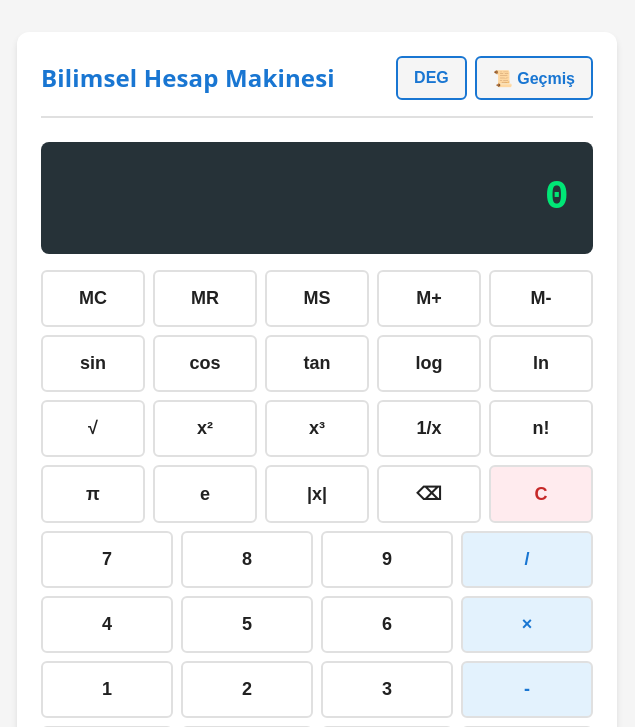
it: ScientificCalculator › Scientific Functions › should calculate sine in degree mode
Click the button labelled "9": (387, 560) [321,531,453,588]
(page scrolled)
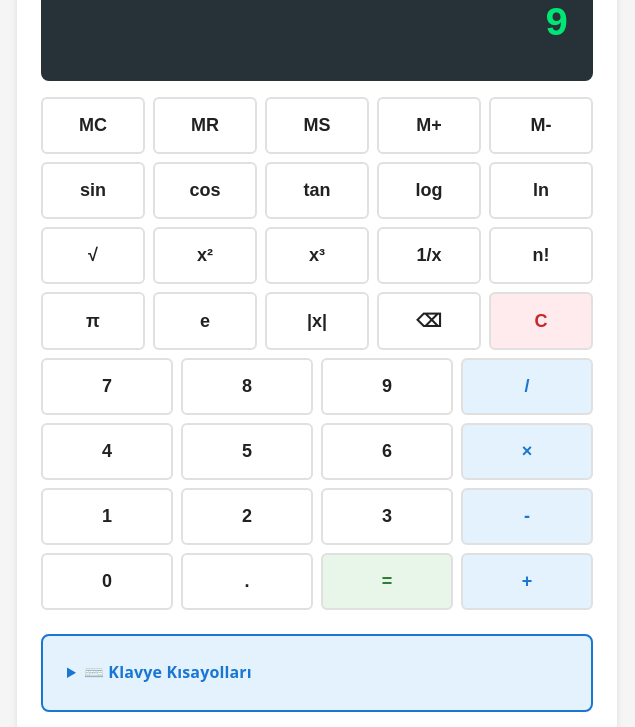
Click the button labelled "0": (107, 582) [41,553,173,610]
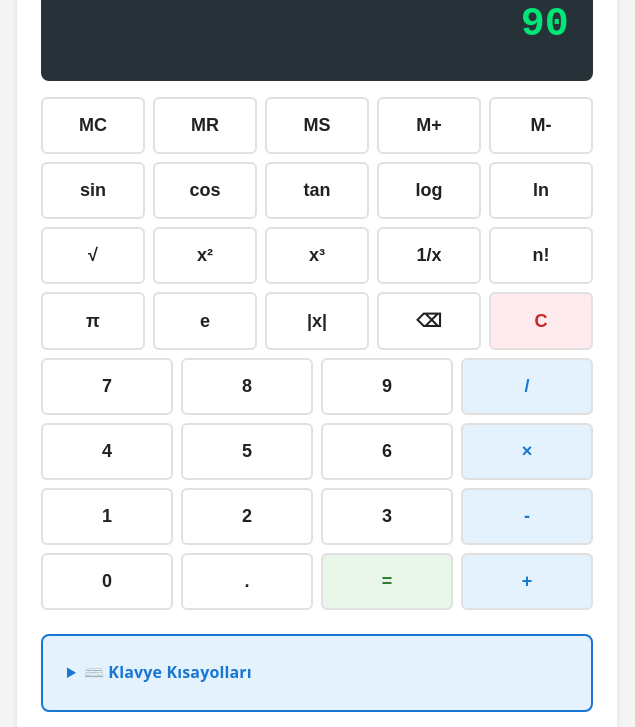
Click the button with aria-label "Sinüs": (93, 190) [41,162,145,219]
(page scrolled)
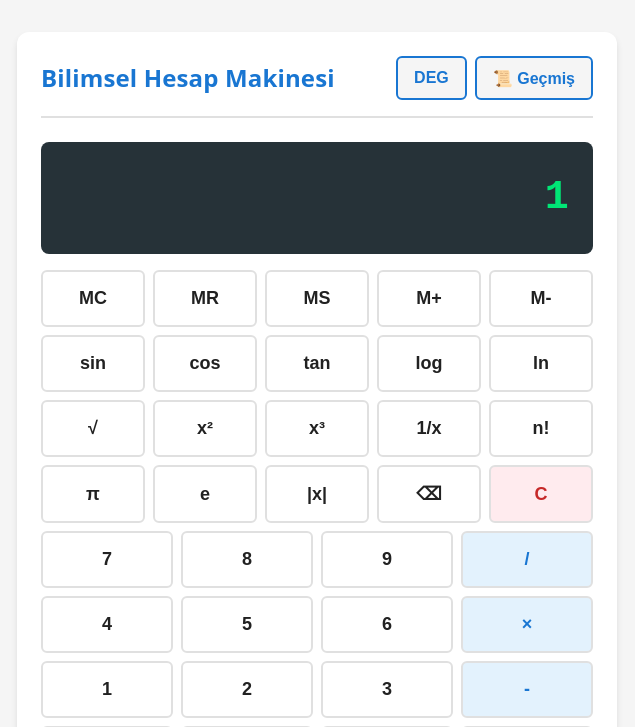
Check: the text with class "main-display" reads "1", box [545,175,569,220]
